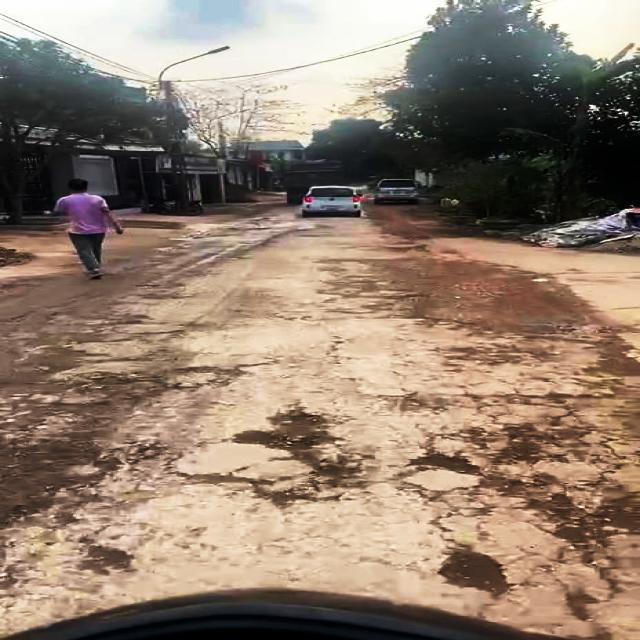pothole: (225, 406, 381, 487), (481, 476, 640, 544), (182, 469, 348, 508), (465, 423, 593, 465), (434, 544, 523, 602), (74, 541, 140, 579), (407, 454, 490, 478)
